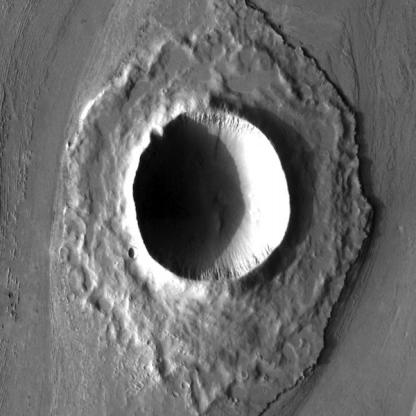craters: (119, 89, 308, 305)
